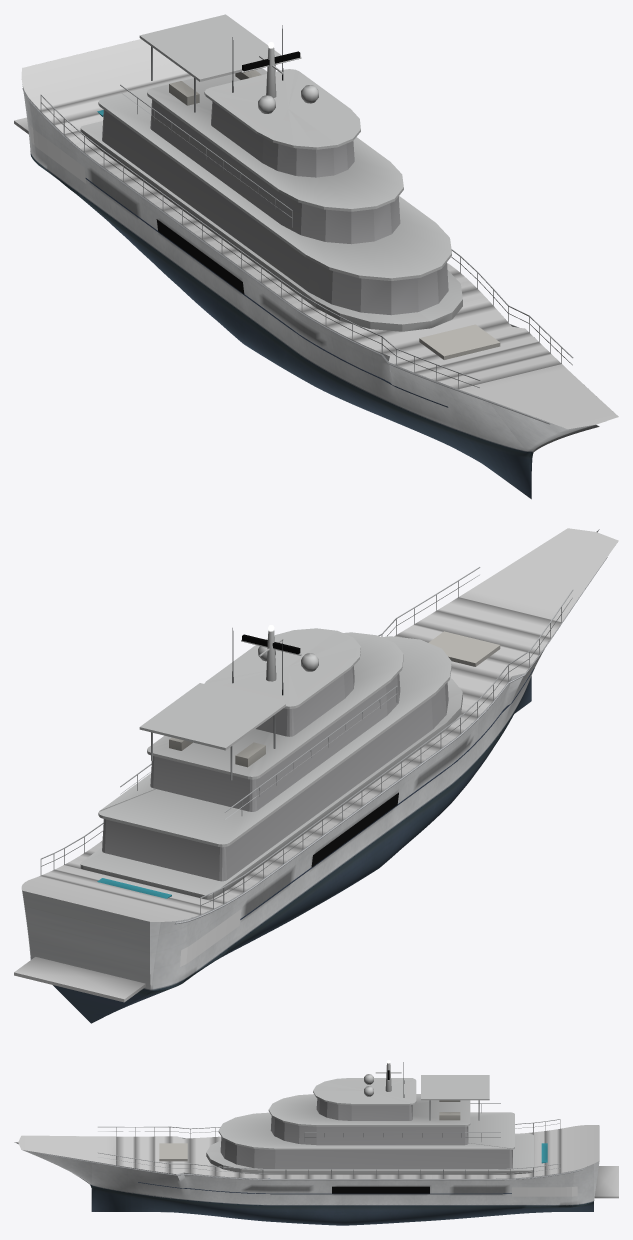
Rendered from yacht.glb.
The picture shows the model from 3 angles, top to bottom: view 1: azimuth 30°, elevation 25°; view 2: azimuth 150°, elevation 25°; view 3: azimuth 270°, elevation 25°; orthographic projection. The views are drawn at different scales.
Parts seen in each view (by area): view 1: trim, rumpf, rund, name-1; view 2: trim, rumpf, rund, holz, name-1; view 3: trim, rumpf, rund, holz, name1.
Boxes of the visible parts, left/top/right/bottom form: trim: left=21, top=14, right=618, bottom=429; rumpf: left=22, top=84, right=599, bottom=499; rund: left=22, top=25, right=573, bottom=424; name-1: left=30, top=125, right=86, bottom=183; trim: left=21, top=528, right=618, bottom=921; rumpf: left=22, top=529, right=599, bottom=1023; rund: left=40, top=557, right=607, bottom=924; holz: left=14, top=957, right=145, bottom=1002; name-1: left=180, top=909, right=241, bottom=966; trim: left=18, top=1075, right=599, bottom=1193; rumpf: left=14, top=1136, right=599, bottom=1225; rund: left=38, top=1062, right=584, bottom=1194; holz: left=594, top=1166, right=618, bottom=1198; name1: left=512, top=1186, right=577, bottom=1196.
Bounding box in the file's own units: 9.69 × 15.45 × 55.42.
Materials: 7 (1 with a texture image).
